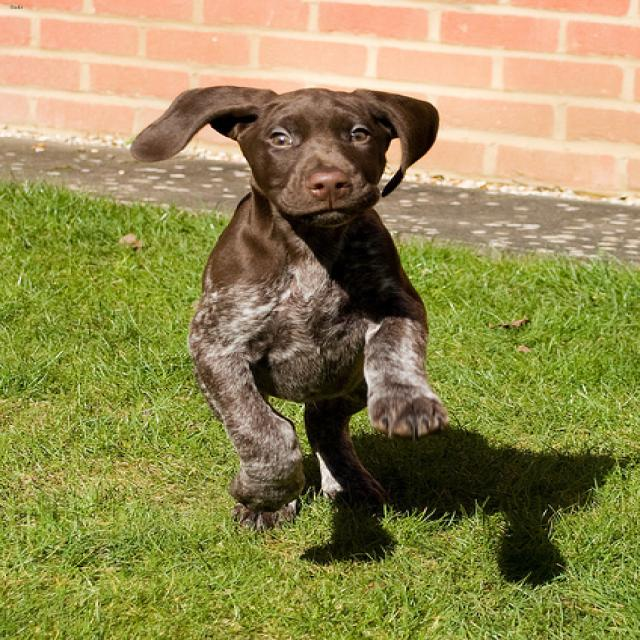dog-german_shorthaired: (118, 76, 457, 540)
